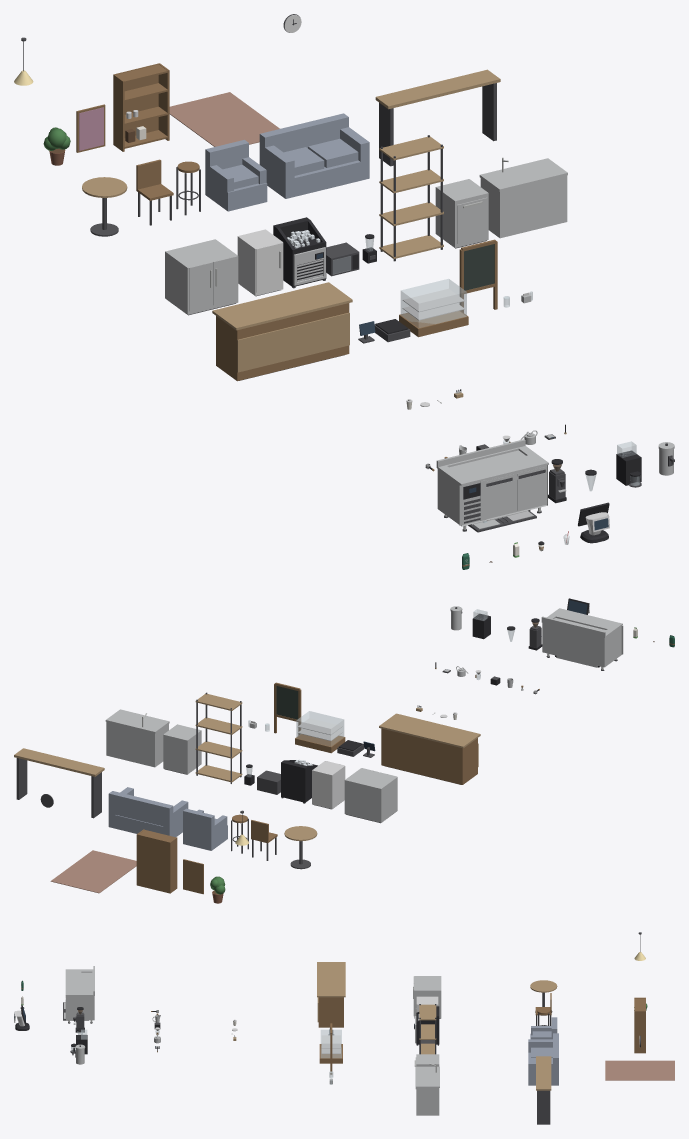
File: cafe_props.glb
3 renders of one model, top to bottom at view 1: azimuth 30°, elevation 25°; view 2: azimuth 150°, elevation 25°; view 3: azimuth 270°, elevation 25°, orthographic. The views are drawn at different scales.
Parts seen in each view (by area): view 1: ServiceCounter, Sofa, PrepTableFridge, SinkUnit, UndercounterFridge, RetailShelf, ShelvingRack, FloorRug, LoungeArmchair, WindowBarCounter, PastryDisplayCase, Dishwasher (+11 smaller); view 2: ServiceCounter, PrepTableFridge, SinkUnit, Sofa, UndercounterFridge, RetailShelf, ShelvingRack, FloorRug, WindowBarCounter, PastryDisplayCase, Dishwasher, LoungeArmchair (+8 smaller); view 3: ServiceCounter, FloorRug, PrepTableFridge, SinkUnit, Sofa, WindowBarCounter, ShelvingRack, PastryDisplayCase, UndercounterFridge, RetailShelf, LoungeArmchair, IceMachine (+2 smaller).
Boxes of the visible parts, left/top/right/bottom form: ServiceCounter: left=212, top=282, right=352, bottom=381; Sofa: left=259, top=113, right=369, bottom=198; PrepTableFridge: left=436, top=439, right=548, bottom=531; SinkUnit: left=479, top=157, right=567, bottom=238; UndercounterFridge: left=165, top=239, right=238, bottom=315; RetailShelf: left=113, top=63, right=169, bottom=151; ShelvingRack: left=379, top=135, right=443, bottom=261; FloorRug: left=169, top=92, right=279, bottom=146; LoungeArmchair: left=205, top=139, right=267, bottom=211; WindowBarCounter: left=375, top=69, right=500, bottom=166; PastryDisplayCase: left=399, top=279, right=468, bottom=337; Dishwasher: left=435, top=179, right=488, bottom=248; ServiceCounter: left=379, top=713, right=480, bottom=784; PrepTableFridge: left=541, top=608, right=623, bottom=670; SinkUnit: left=105, top=709, right=169, bottom=767; Sofa: left=108, top=787, right=188, bottom=837; UndercounterFridge: left=344, top=768, right=397, bottom=823; RetailShelf: left=136, top=829, right=177, bottom=893; ShelvingRack: left=195, top=692, right=242, bottom=783; FloorRug: left=50, top=850, right=136, bottom=893; WindowBarCounter: left=14, top=748, right=104, bottom=818; PastryDisplayCase: left=295, top=711, right=345, bottom=753; Dishwasher: left=163, top=724, right=201, bottom=774; LoungeArmchair: left=183, top=808, right=227, bottom=850; ServiceCounter: left=317, top=962, right=345, bottom=1027; FloorRug: left=605, top=1060, right=674, bottom=1080; PrepTableFridge: left=65, top=966, right=94, bottom=1023; SinkUnit: left=416, top=1063, right=439, bottom=1115; Sofa: left=528, top=1033, right=558, bottom=1085; WindowBarCounter: left=536, top=1056, right=551, bottom=1124; ShelvingRack: left=419, top=1004, right=436, bottom=1054; PastryDisplayCase: left=319, top=1029, right=342, bottom=1063; UndercounterFridge: left=413, top=976, right=441, bottom=1018; RetailShelf: left=634, top=997, right=645, bottom=1053; LoungeArmchair: left=530, top=1017, right=557, bottom=1039; IceMachine: left=414, top=1006, right=439, bottom=1045.
Size of the model in its own units: 8.36 by 2.29 by 17.12.
